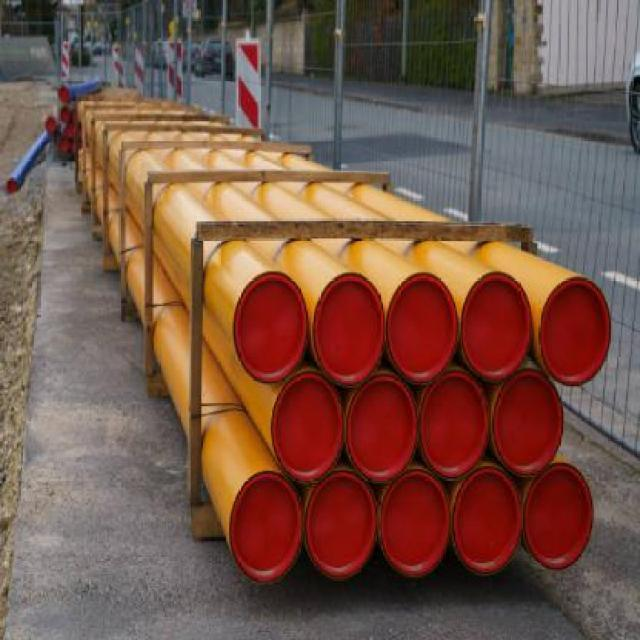pipe: (233, 270, 307, 384), (314, 271, 385, 387), (385, 273, 458, 384), (540, 275, 613, 386), (270, 370, 344, 479), (345, 373, 419, 482), (228, 473, 301, 582), (304, 471, 377, 579), (452, 464, 523, 575), (490, 368, 564, 474), (461, 273, 532, 382), (418, 370, 489, 478), (377, 469, 450, 574), (524, 463, 593, 571)
